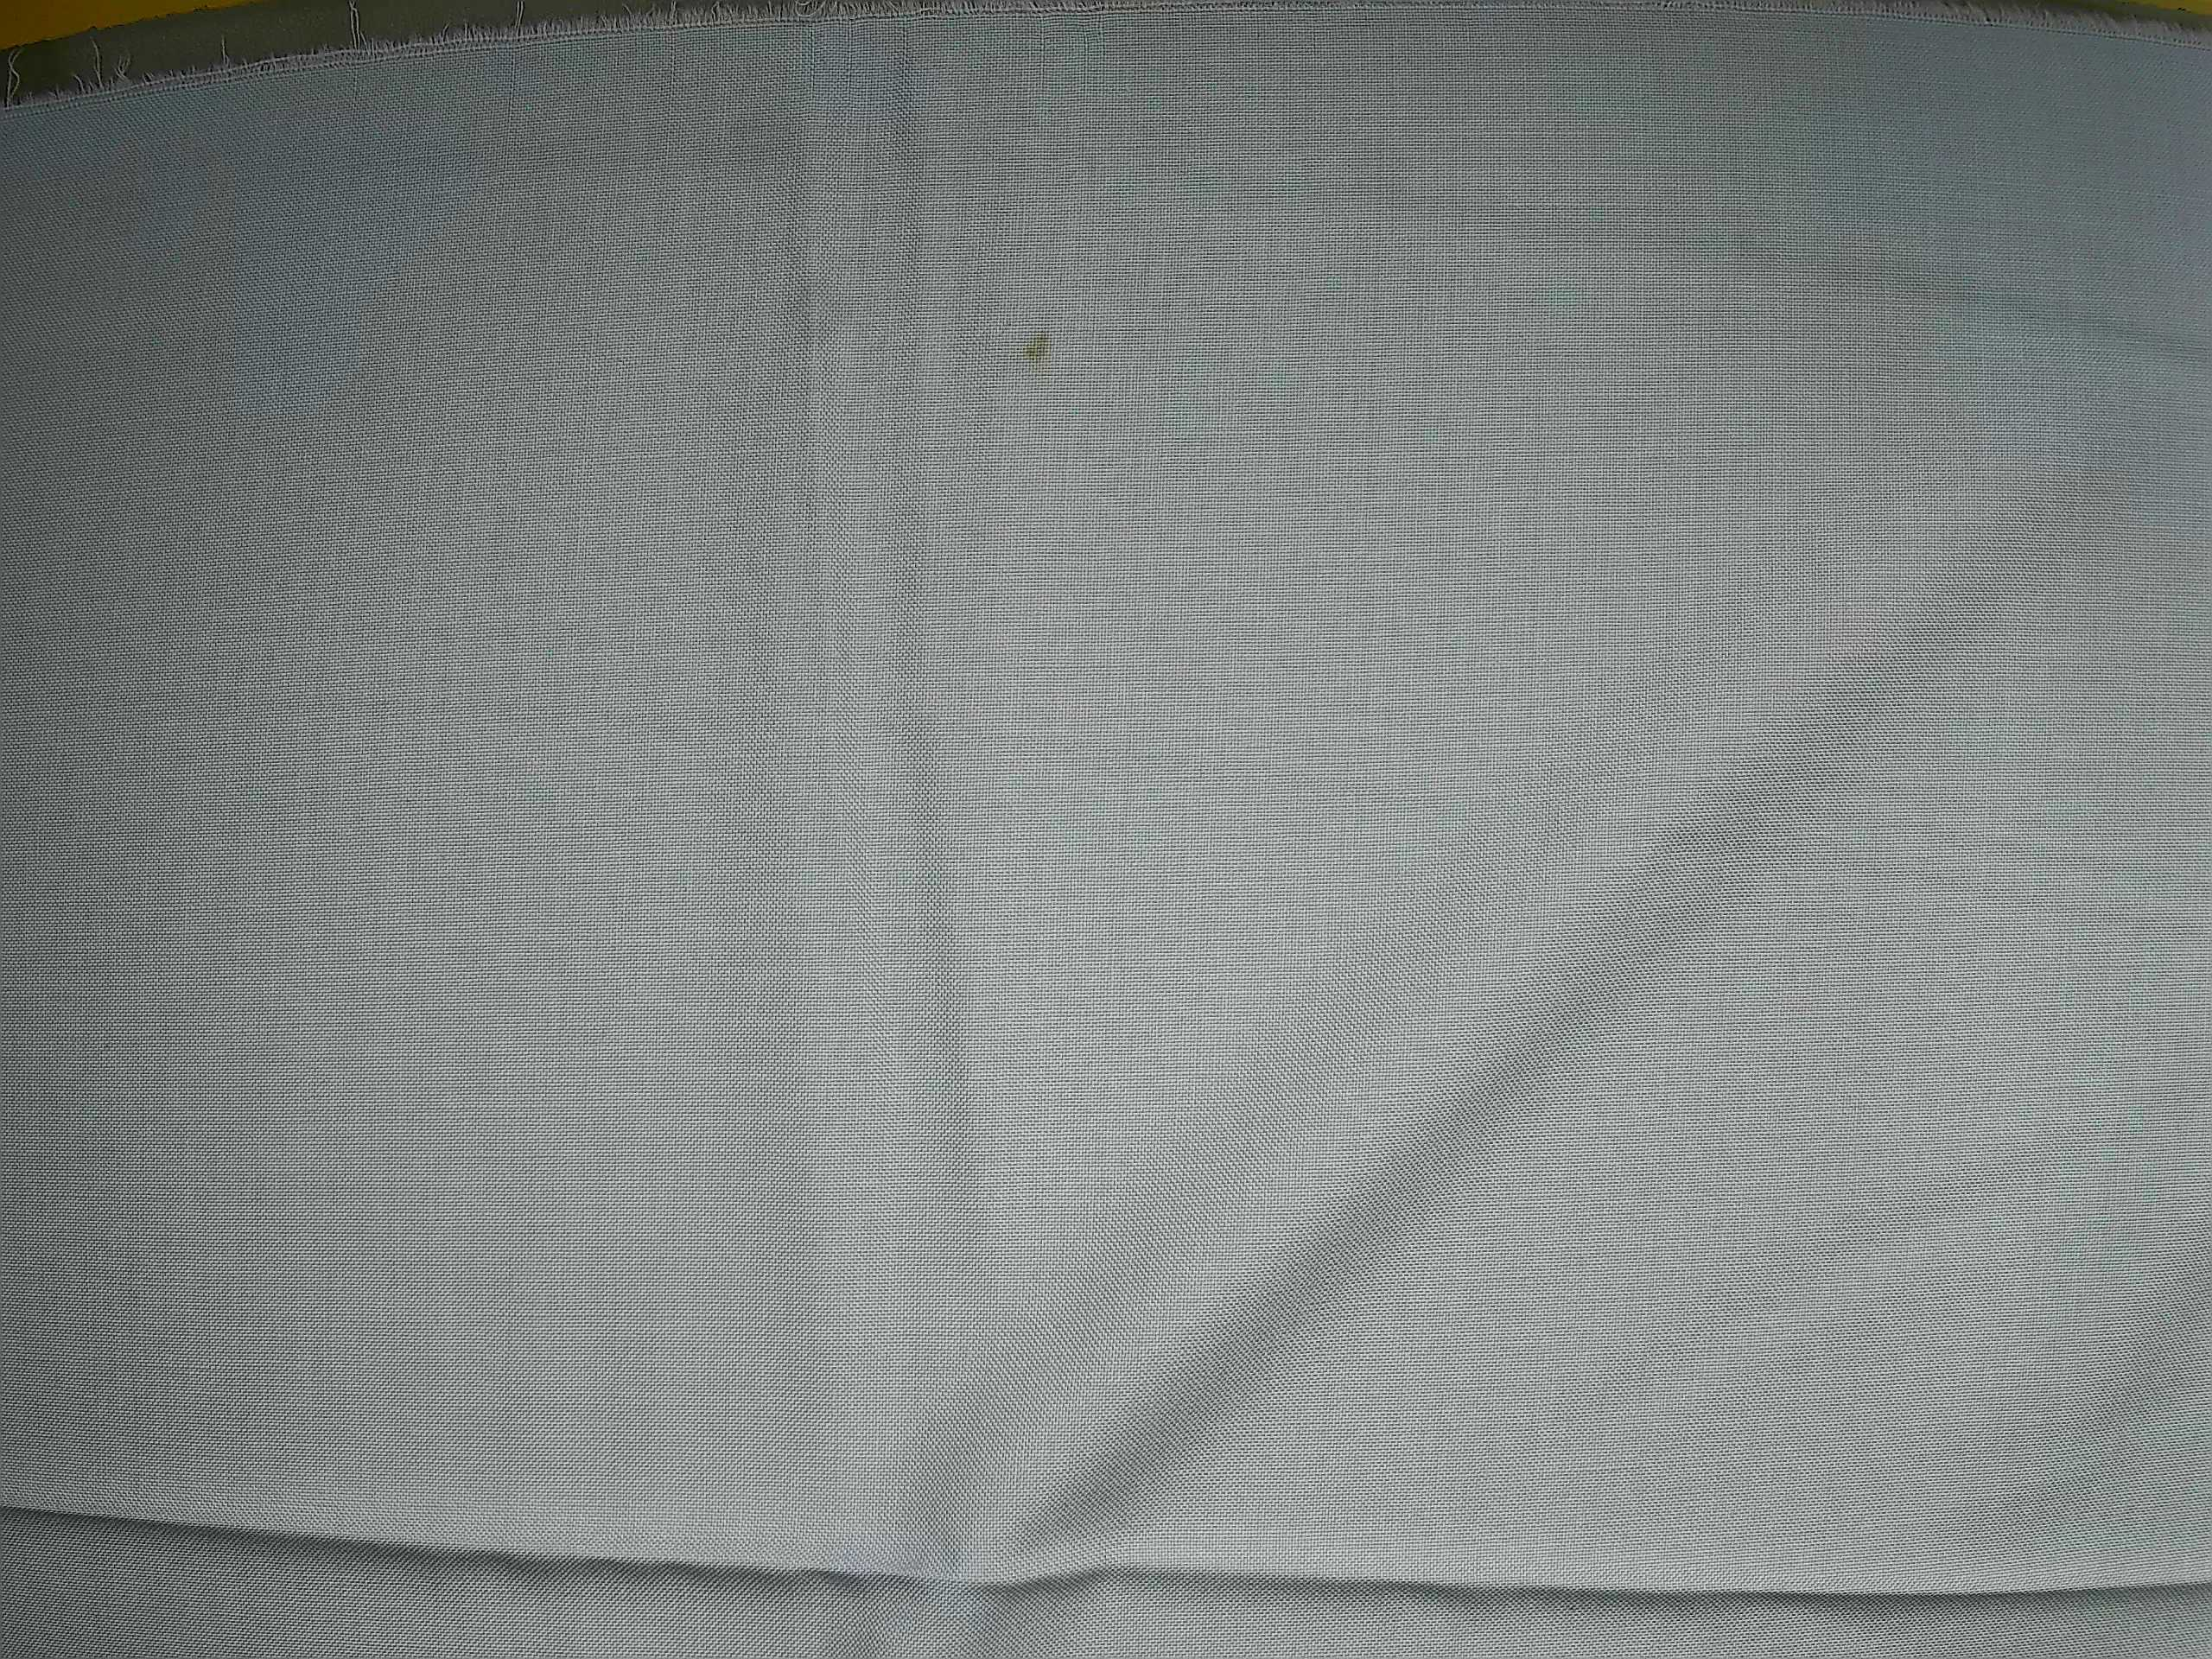others: (688, 113, 815, 193), (773, 261, 857, 378), (315, 345, 420, 437), (988, 315, 1080, 387)
